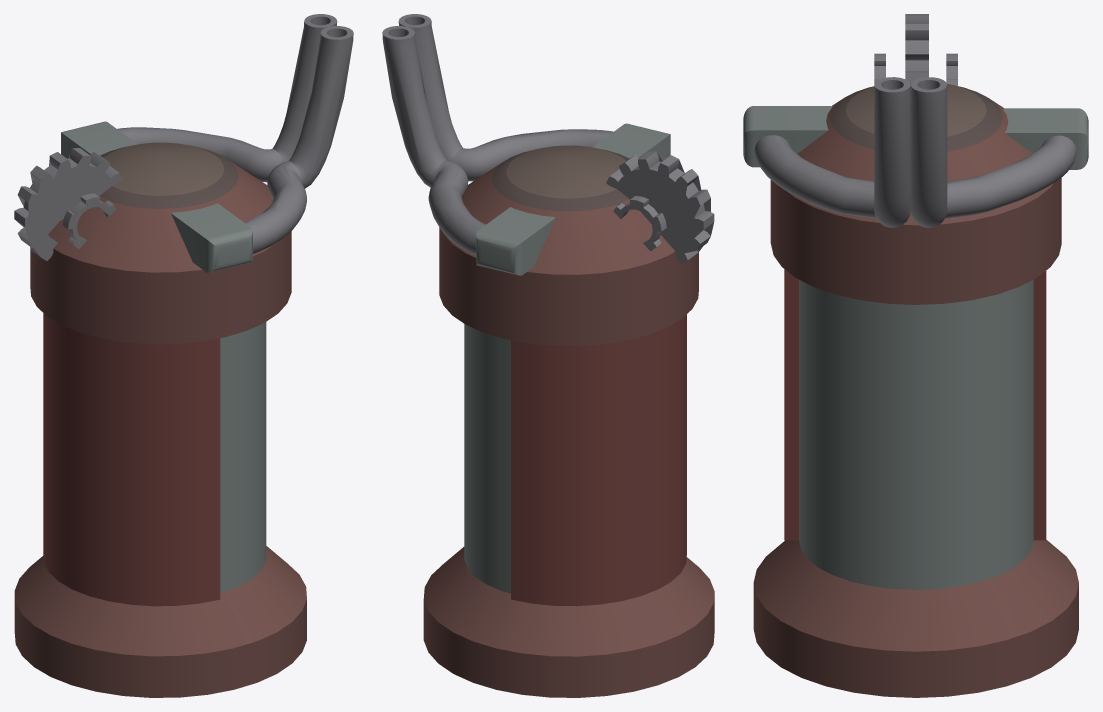
File: rust_remover.fbx
3 views of the same model, side by side, from view 1: azimuth 30°, elevation 25°; view 2: azimuth 150°, elevation 25°; view 3: azimuth 270°, elevation 25° (orthographic). The views are drawn at different scales.
Visible parts, largest first — view 1: roestverwijderer; view 2: roestverwijderer; view 3: roestverwijderer.
Part boxes in pixels (x1,y1,x2,y2): roestverwijderer: [14, 14, 353, 697]; roestverwijderer: [382, 14, 714, 697]; roestverwijderer: [743, 14, 1088, 697].
Size of the model in its own units: 108 by 184 by 91.04.
Materials: 1 (1 with a texture image).
